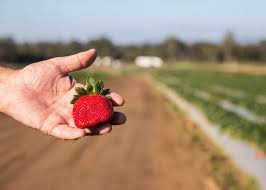ripe: (67, 91, 118, 131)
